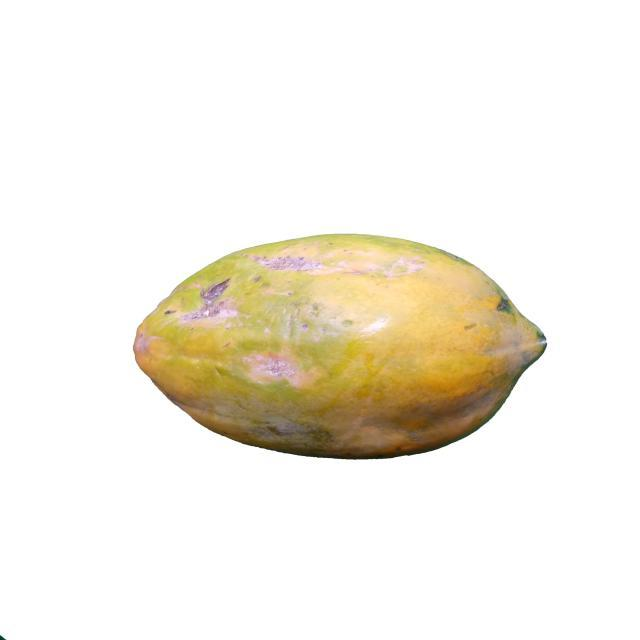Pepaya rippen: (132, 231, 551, 461)
